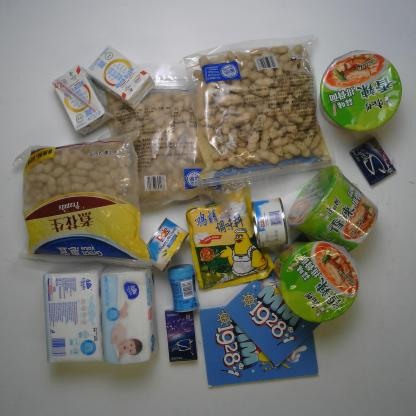Canned Food: (137, 216, 190, 277), (248, 195, 290, 250)
Dried Food: (178, 34, 342, 193), (92, 74, 254, 213), (6, 128, 157, 274)
Gum: (346, 133, 396, 187), (163, 306, 200, 366), (166, 264, 201, 314)
Instant Noodles: (283, 161, 381, 257), (315, 45, 406, 137), (275, 240, 359, 323)
Milk: (50, 62, 116, 140), (83, 45, 158, 111)
Seasoner: (181, 181, 278, 291)
Stationery: (223, 227, 362, 369), (195, 300, 321, 388)
Tissue: (37, 264, 105, 368), (96, 262, 161, 369)
